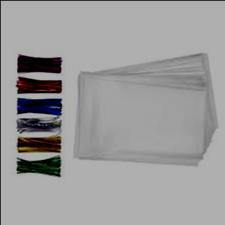Plastic: (74, 48, 216, 169), (13, 49, 68, 76), (1, 96, 66, 118), (12, 75, 68, 92)
